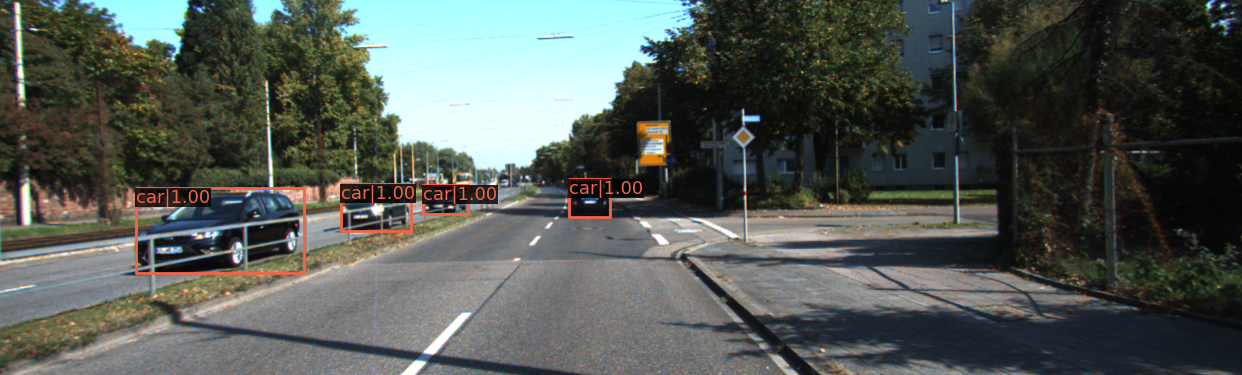car: (138, 192, 304, 277), (341, 184, 411, 231), (572, 180, 612, 219), (423, 189, 469, 216)
